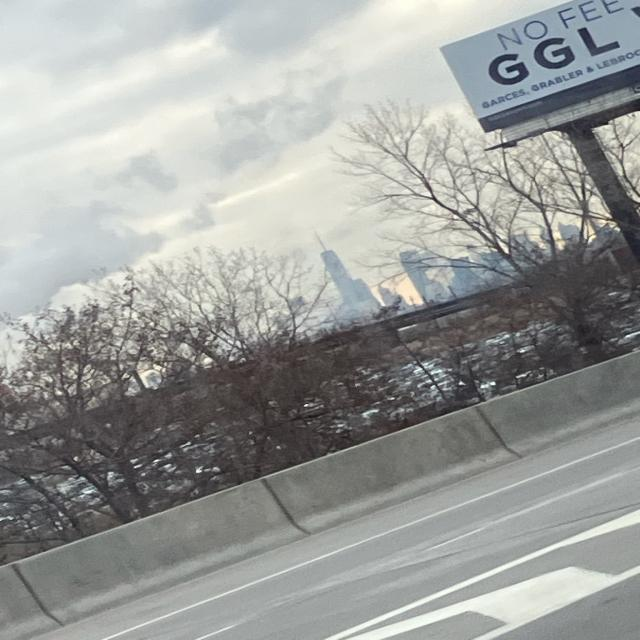WTC: (306, 228, 362, 307)
